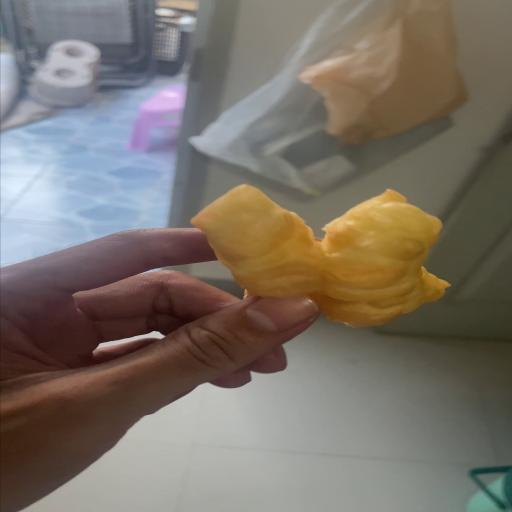street_golden_good: (191, 186, 447, 325)
